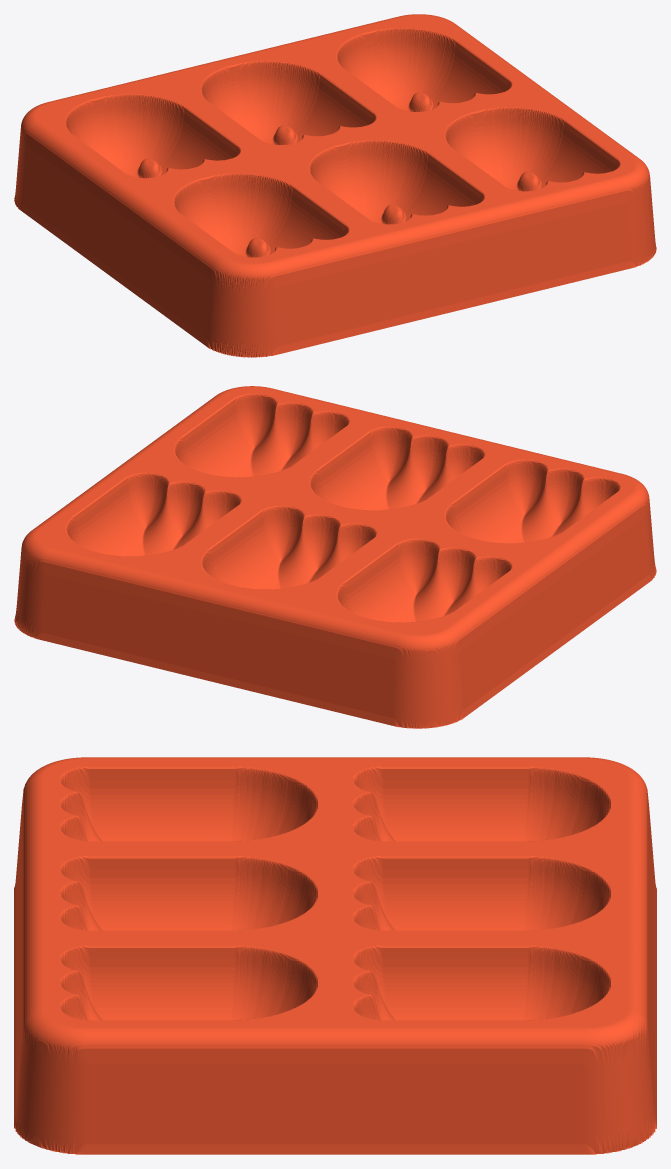
The model's file is mold.glb.
The picture shows the model from 3 angles, top to bottom: view 1: azimuth 30°, elevation 25°; view 2: azimuth 150°, elevation 25°; view 3: azimuth 270°, elevation 25°; orthographic projection. The views are drawn at different scales.
Parts seen in each view (by area): view 1: geometry_0; view 2: geometry_0; view 3: geometry_0.
Boxes of the visible parts, box(x1,y1,x2,y2) form: geometry_0: box(14, 14, 656, 357); geometry_0: box(14, 386, 656, 728); geometry_0: box(14, 757, 656, 1154).
Size of the model in its own units: 0.087 by 0.0159 by 0.0808.
